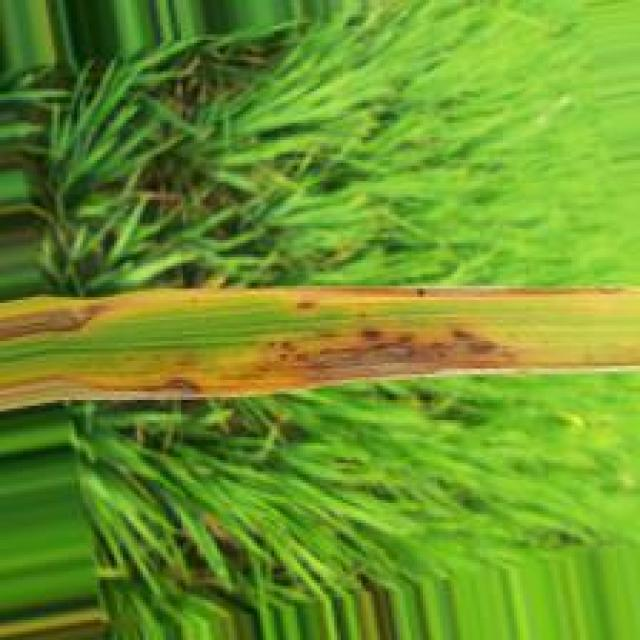Bacterial_Leaf_Blight: (0, 312, 640, 413), (0, 287, 640, 347)
